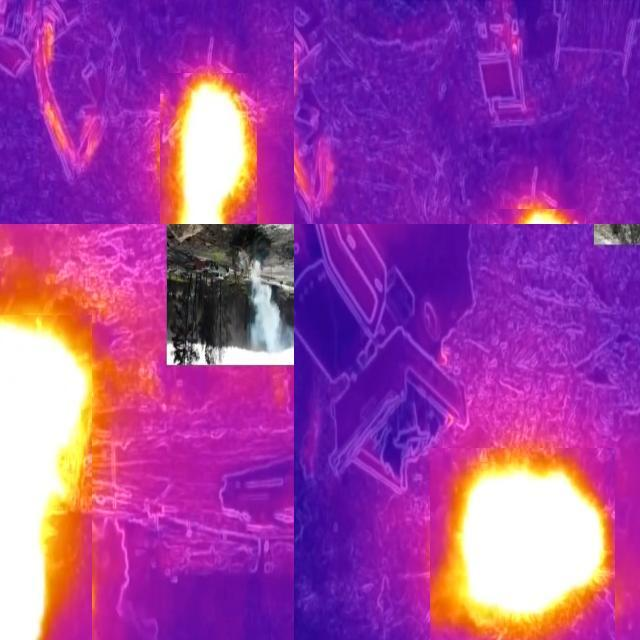fire: (430, 448, 615, 640), (1, 315, 92, 640), (160, 73, 257, 225), (518, 210, 593, 224)
